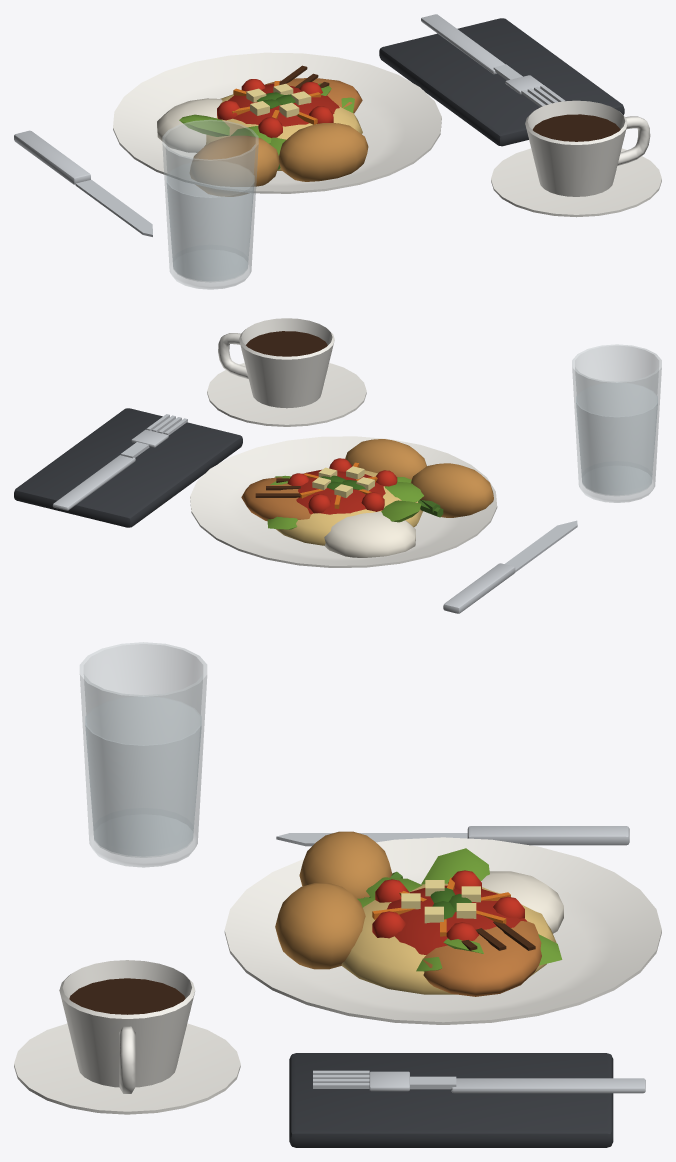
Rendered from HH-DINING-SET.glb.
3 renders of one model, top to bottom at view 1: azimuth 30°, elevation 25°; view 2: azimuth 150°, elevation 25°; view 3: azimuth 270°, elevation 25°, orthographic. The views are drawn at different scales.
Visible parts, largest first — view 1: Dining_Plate, Dining_CoffeeCup_Mesh, Dining_WaterGlass_Glass, Dining_Napkin, Dining_WaterGlass_Water, Dining_Meal_C_Mesh, Dining_Meal_B_Mesh, Dining_Meal_A_Mesh, Dining_Knife_Mesh, Dining_Fork_Mesh; view 2: Dining_Plate, Dining_Napkin, Dining_CoffeeCup_Mesh, Dining_WaterGlass_Glass, Dining_WaterGlass_Water, Dining_Meal_B_Mesh, Dining_Meal_C_Mesh, Dining_Meal_A_Mesh, Dining_Fork_Mesh, Dining_Knife_Mesh; view 3: Dining_Plate, Dining_Napkin, Dining_WaterGlass_Glass, Dining_CoffeeCup_Mesh, Dining_WaterGlass_Water, Dining_Meal_C_Mesh, Dining_Meal_B_Mesh, Dining_Meal_A_Mesh, Dining_Fork_Mesh, Dining_Knife_Mesh.
Part boxes in pixels (left/top/right/bottom): Dining_Plate: left=113, top=52, right=441, bottom=193; Dining_CoffeeCup_Mesh: left=491, top=100, right=661, bottom=217; Dining_WaterGlass_Glass: left=162, top=119, right=258, bottom=289; Dining_Napkin: left=379, top=18, right=624, bottom=146; Dining_WaterGlass_Water: left=167, top=161, right=254, bottom=280; Dining_Meal_C_Mesh: left=179, top=79, right=368, bottom=181; Dining_Meal_B_Mesh: left=190, top=83, right=362, bottom=196; Dining_Meal_A_Mesh: left=157, top=65, right=362, bottom=169; Dining_Knife_Mesh: left=14, top=130, right=152, bottom=236; Dining_Fork_Mesh: left=421, top=14, right=565, bottom=107; Dining_Plate: left=190, top=436, right=497, bottom=567; Dining_Napkin: left=14, top=408, right=242, bottom=527; Dining_CoffeeCup_Mesh: left=207, top=318, right=366, bottom=426; Dining_WaterGlass_Glass: left=572, top=344, right=661, bottom=502; Dining_WaterGlass_Water: left=576, top=383, right=657, bottom=494; Dining_Meal_B_Mesh: left=276, top=463, right=493, bottom=545; Dining_Meal_C_Mesh: left=267, top=439, right=426, bottom=529; Dining_Meal_A_Mesh: left=241, top=477, right=443, bottom=557; Dining_Fork_Mesh: left=52, top=414, right=187, bottom=510; Dining_Knife_Mesh: left=443, top=520, right=577, bottom=613; Dining_Plate: left=224, top=837, right=661, bottom=1024; Dining_Napkin: left=289, top=1053, right=613, bottom=1147; Dining_WaterGlass_Glass: left=79, top=642, right=207, bottom=867; Dining_CoffeeCup_Mesh: left=14, top=960, right=240, bottom=1114; Dining_WaterGlass_Water: left=85, top=697, right=201, bottom=856; Dining_Meal_C_Mesh: left=275, top=848, right=562, bottom=971; Dining_Meal_B_Mesh: left=299, top=831, right=556, bottom=994; Dining_Meal_A_Mesh: left=364, top=871, right=563, bottom=996; Dining_Fork_Mesh: left=313, top=1070, right=645, bottom=1093; Dining_Knife_Mesh: left=276, top=826, right=629, bottom=846.
Bounding box in the file's own units: 0.485 × 0.1322 × 0.4.
